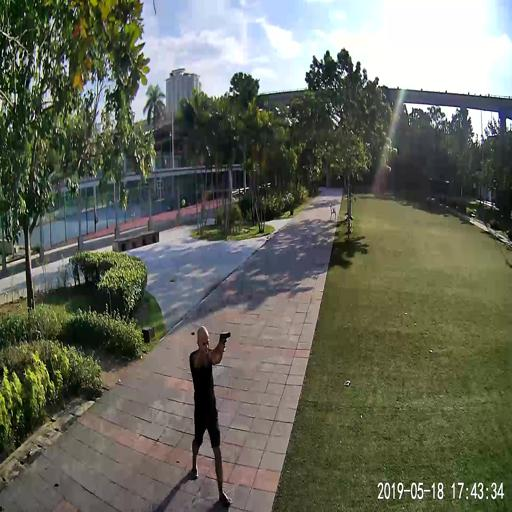pistol: (218, 329, 231, 346)
